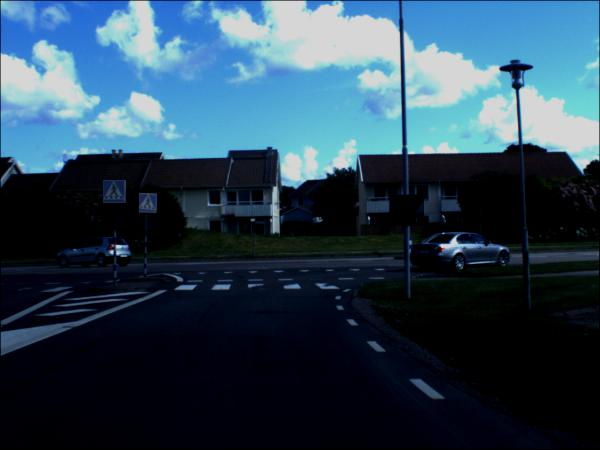GIVE_WAY: (390, 197, 426, 229)
PASS_RIGHT_SIDE: (104, 206, 129, 232)
PEDESTRIAN_CROSSING: (104, 181, 128, 205), (140, 194, 159, 215)
